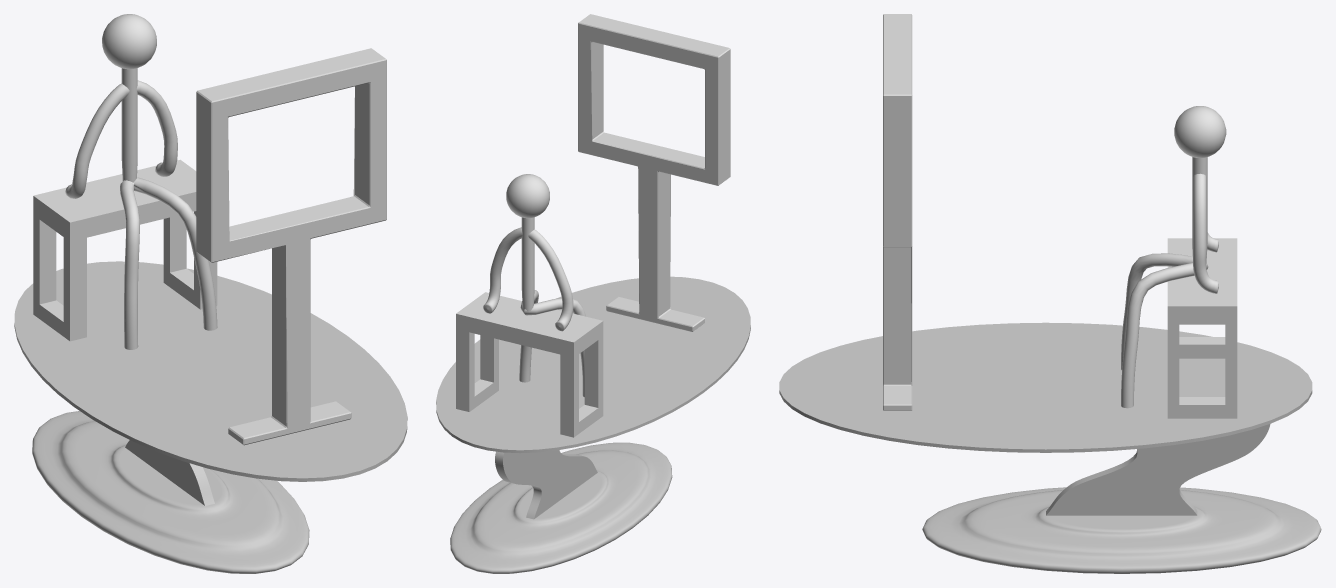
Rendered from Decor_01.FBX.
3 views of the same model, side by side, from view 1: azimuth 30°, elevation 25°; view 2: azimuth 150°, elevation 25°; view 3: azimuth 270°, elevation 25° (orthographic). The views are drawn at different scales.
Parts seen in each view (by area): view 1: Decor_01; view 2: Decor_01; view 3: Decor_01.
Boxes of the visible parts, box(x1,y1,x2,y2) form: Decor_01: box(14, 14, 407, 573); Decor_01: box(436, 14, 750, 573); Decor_01: box(779, 14, 1321, 573).
Bounding box in the file's own units: 0.3503 × 0.6183 × 0.6332.
